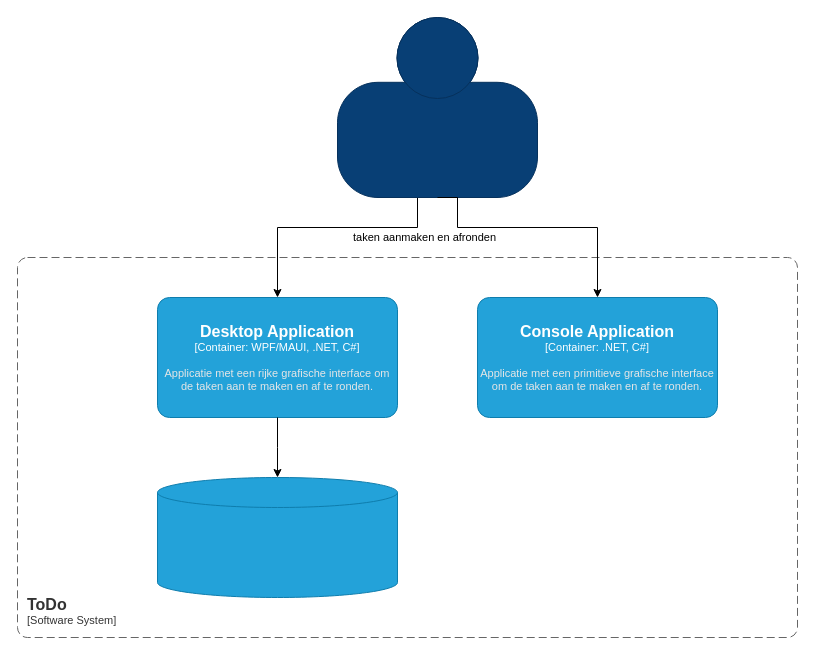
Some shapes in this 815 by 655 pixel diagram are drawn without their labels. The shapes that lost their labels are listed below. From the top down, each one's box as (x1, y1, x2, y2) in pixels, then its label:
(336, 16, 538, 198): Gebruiker [Person] Gebruiker van het systeem
(156, 476, 398, 598): Database [Container: SQL-Server/ SQLite] Database voor het opslaan van de taken
